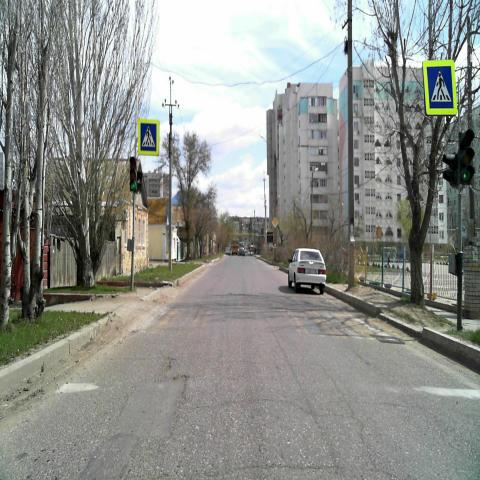2_1: (272, 216, 278, 228)
5_19_1: (423, 60, 456, 114), (139, 120, 159, 155)
